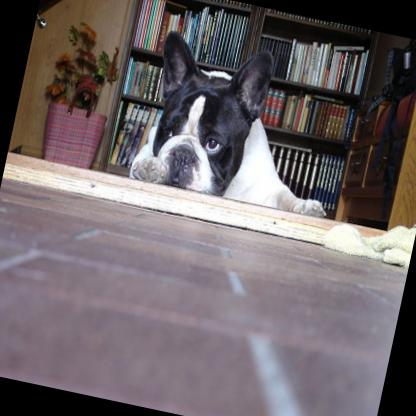French_bulldog: (126, 26, 357, 220)
